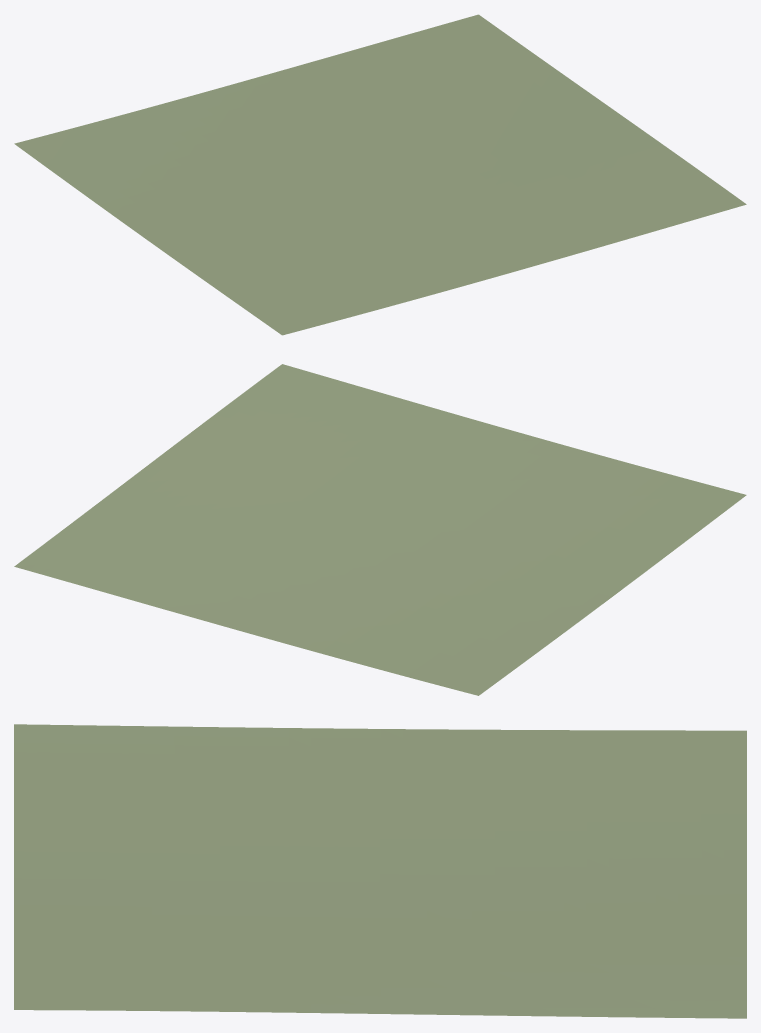
The model's file is expanse-25-2.glb.
3 renders of one model, top to bottom at view 1: azimuth 30°, elevation 25°; view 2: azimuth 150°, elevation 25°; view 3: azimuth 270°, elevation 25°, orthographic. The views are drawn at different scales.
Parts seen in each view (by area): view 1: expanse-25-2; view 2: expanse-25-2; view 3: expanse-25-2.
Part boxes in pixels (box(x1,y1,x2,y2)): expanse-25-2: box(14, 14, 746, 335); expanse-25-2: box(14, 364, 746, 695); expanse-25-2: box(14, 724, 746, 1018).
Bounding box in the file's own units: 256 × 11.68 × 256.
